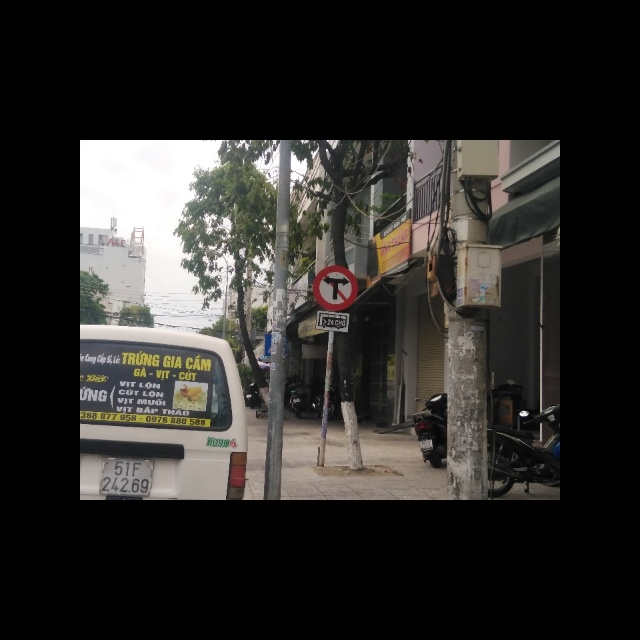Cấm rẽ trái và rẽ phải: (313, 264, 359, 310)
